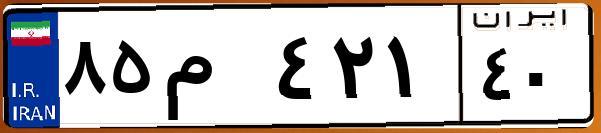0: (525, 38, 570, 115)
1: (385, 28, 445, 110)
2: (330, 28, 385, 110)
4: (270, 28, 330, 110), (475, 38, 525, 113)
5: (110, 28, 158, 98)
8: (57, 26, 110, 100)
م: (158, 20, 270, 120)
